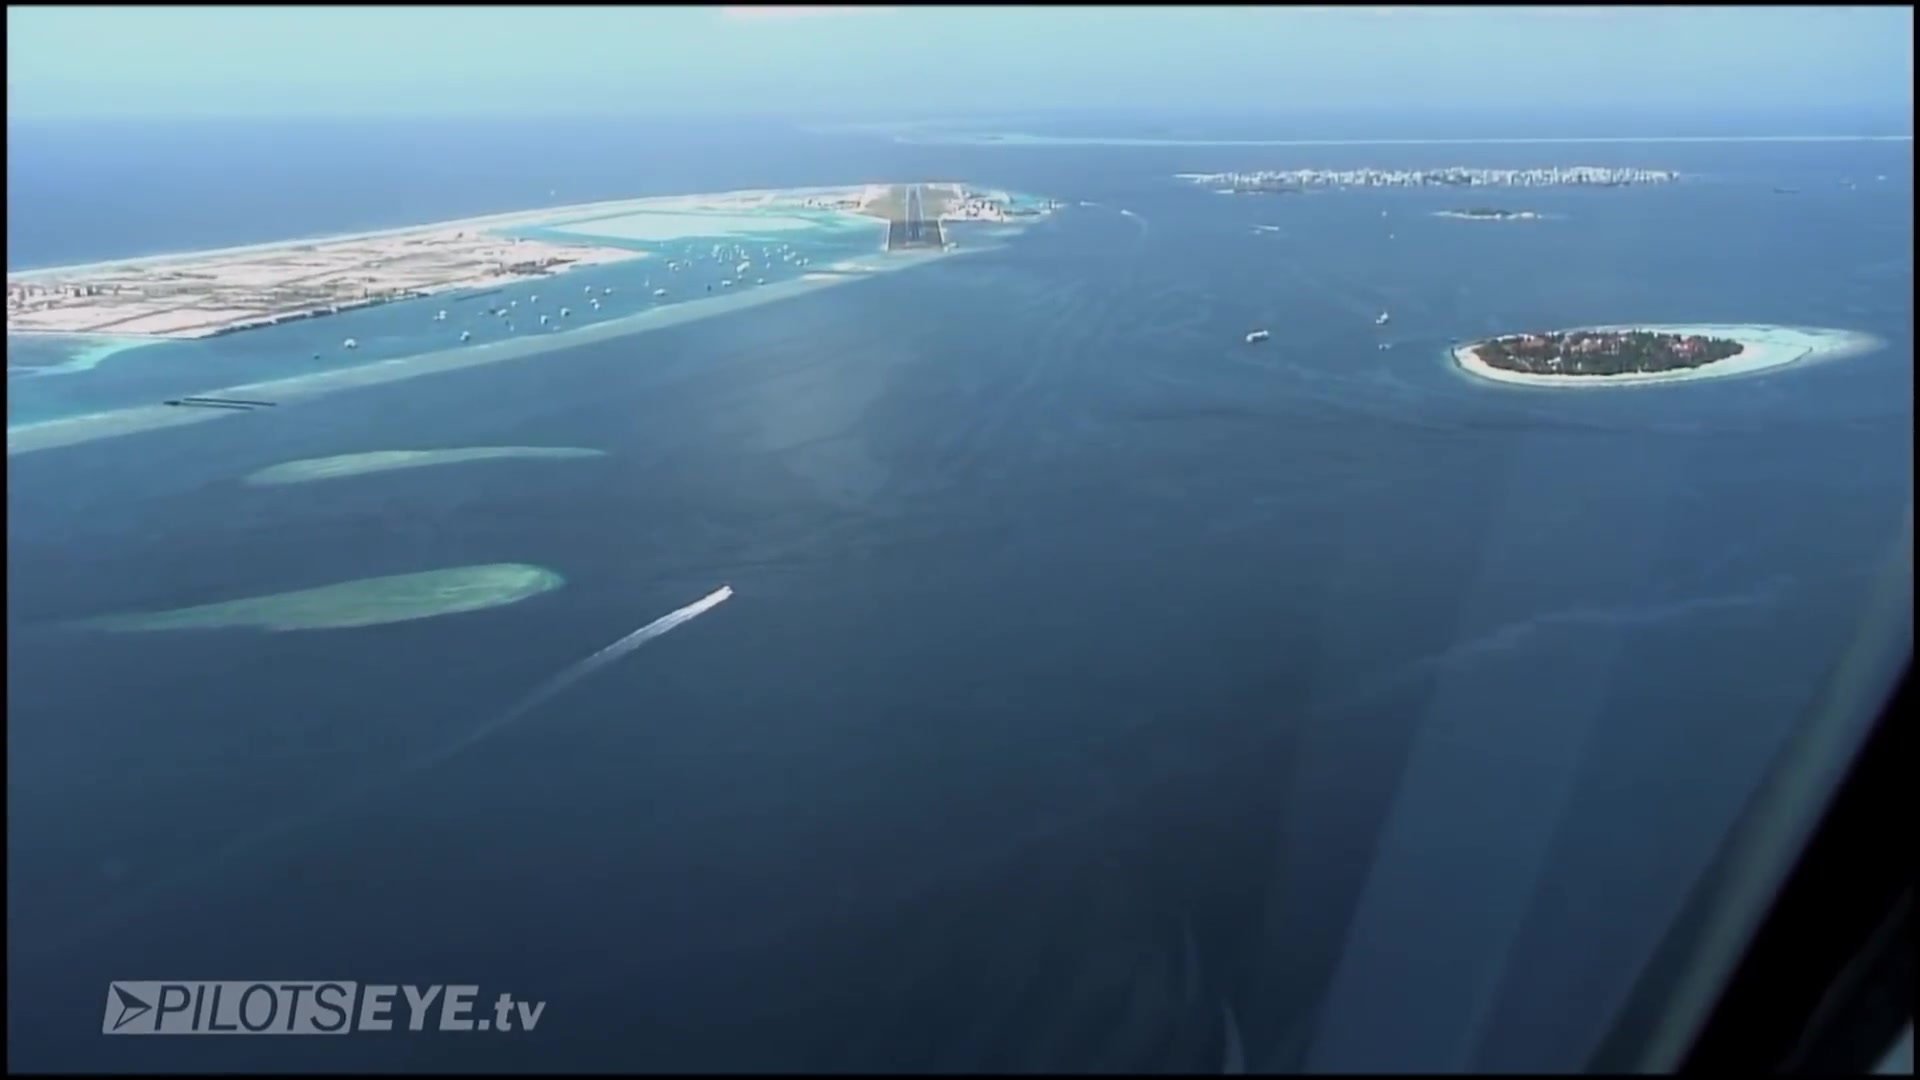runway: (903, 181, 928, 248)
